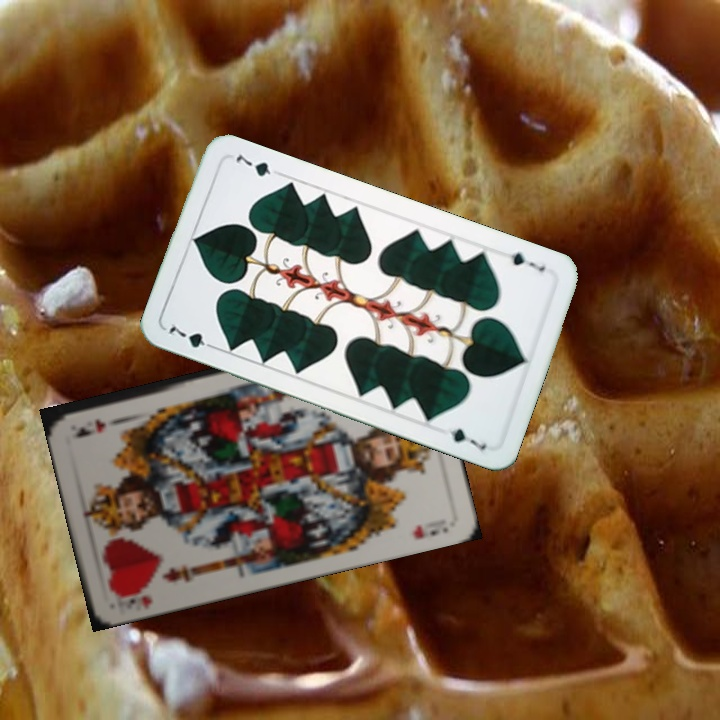G7: (165, 320, 220, 353), (506, 248, 548, 275)
HK: (111, 591, 155, 612)
